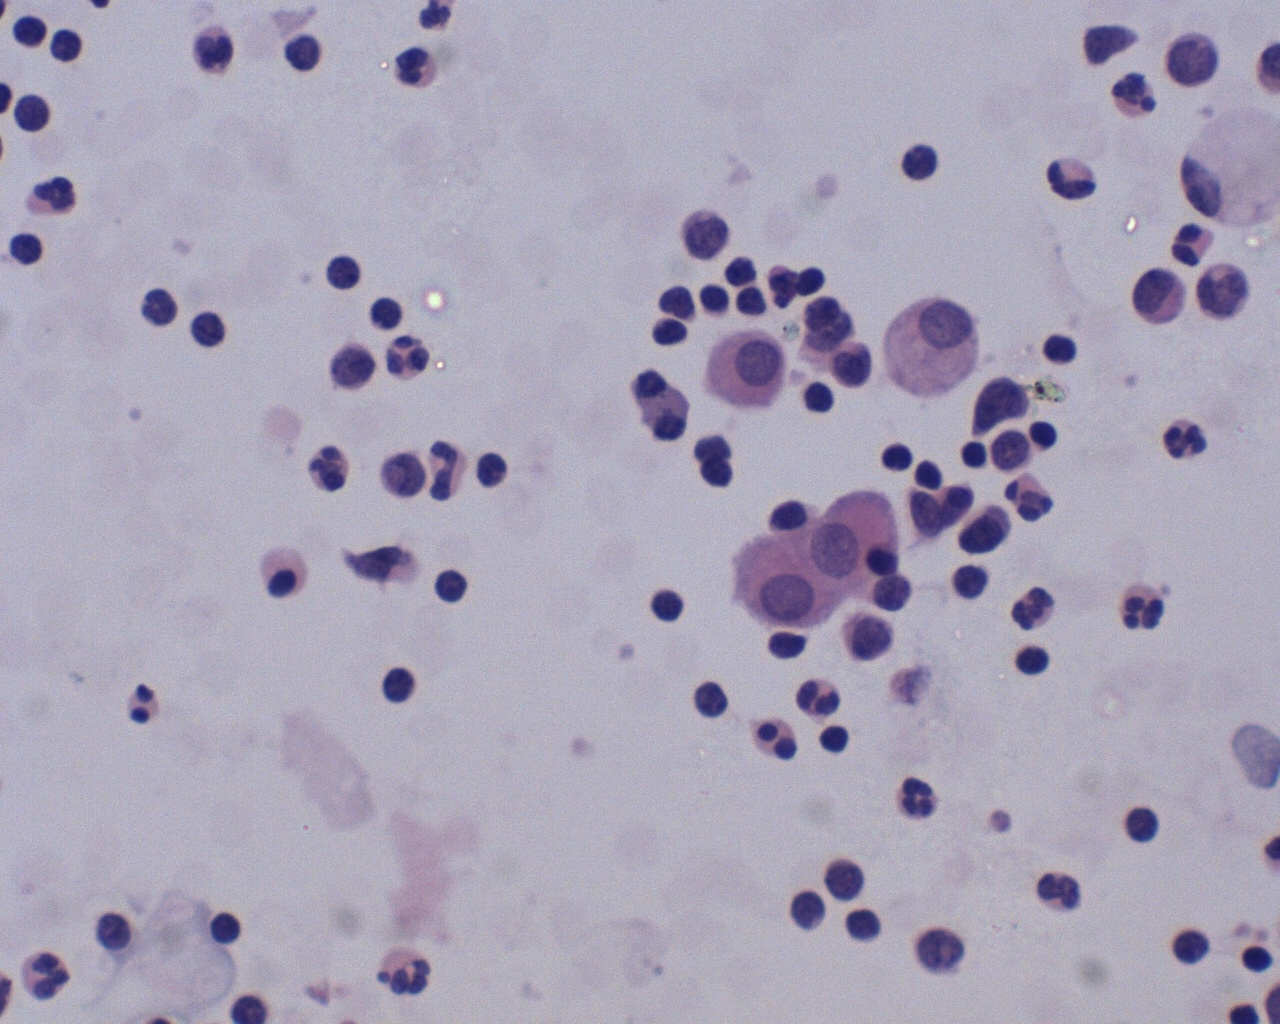ab: (709, 326, 785, 412), (1159, 30, 1229, 97)
lymph: (1110, 798, 1173, 850), (901, 137, 954, 191), (318, 251, 374, 300), (370, 662, 423, 708), (6, 222, 50, 275), (428, 563, 473, 610), (204, 907, 253, 950), (817, 716, 860, 763), (650, 586, 693, 632), (1013, 633, 1051, 680), (44, 26, 88, 67), (876, 438, 920, 478)
meso: (720, 521, 838, 628), (876, 294, 983, 402), (802, 489, 905, 595)
neutro: (366, 941, 434, 1004), (298, 433, 356, 498), (16, 946, 76, 1004), (1027, 860, 1084, 918), (1007, 582, 1065, 638), (893, 772, 950, 828), (1109, 67, 1165, 121), (23, 171, 84, 222), (1156, 412, 1213, 464), (1118, 583, 1166, 639), (378, 332, 433, 380), (794, 676, 843, 722), (134, 284, 180, 332)
